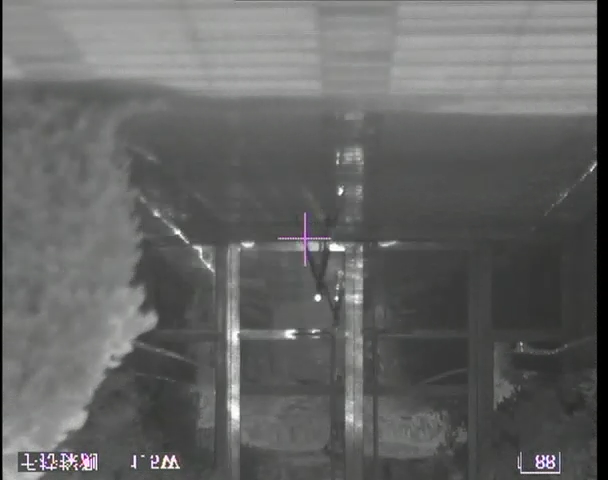my: (314, 293, 322, 303)
